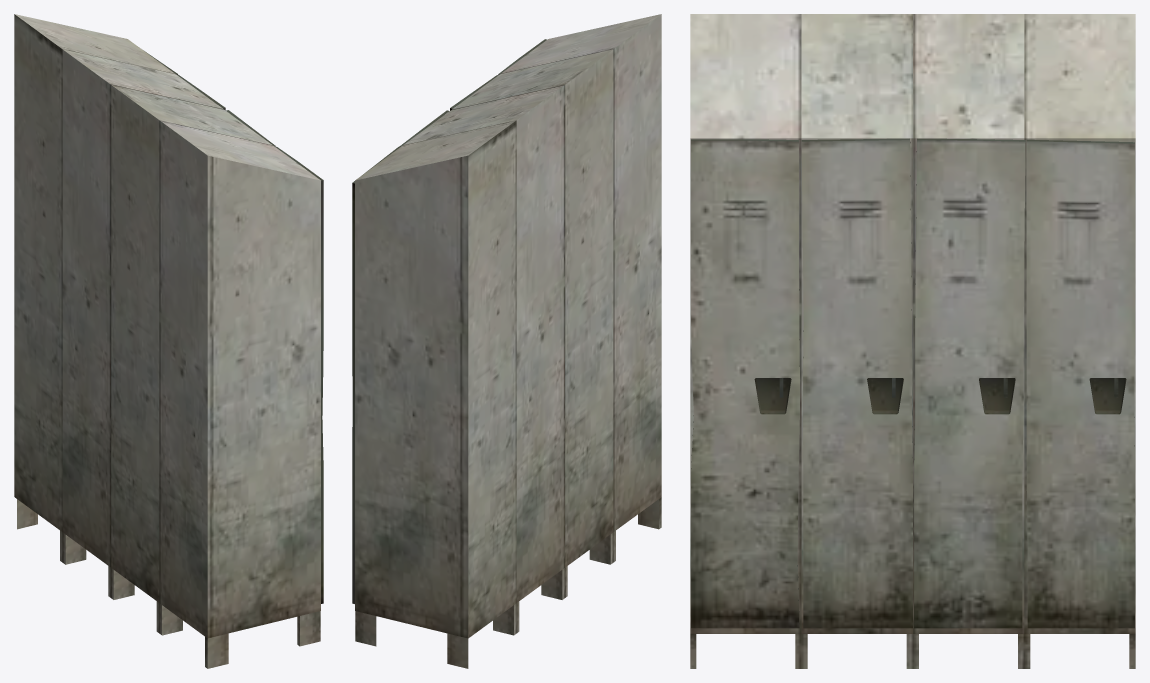
File: lockers001a.glb
3 renders of one model, left to right at view 1: azimuth 30°, elevation 25°; view 2: azimuth 150°, elevation 25°; view 3: azimuth 270°, elevation 25°, orthographic. The views are drawn at different scales.
Visible parts, largest first — view 1: 0_Lockers001a; view 2: 0_Lockers001a; view 3: 0_Lockers001a.
Part boxes in pixels (x1=…): 0_Lockers001a: x1=14, y1=14, x2=323, y2=668; 0_Lockers001a: x1=352, y1=14, x2=661, y2=668; 0_Lockers001a: x1=690, y1=14, x2=1135, y2=668.
Size of the model in its own units: 0.4365 by 1.8 by 1.23.
Materials: 1 (1 with a texture image).
